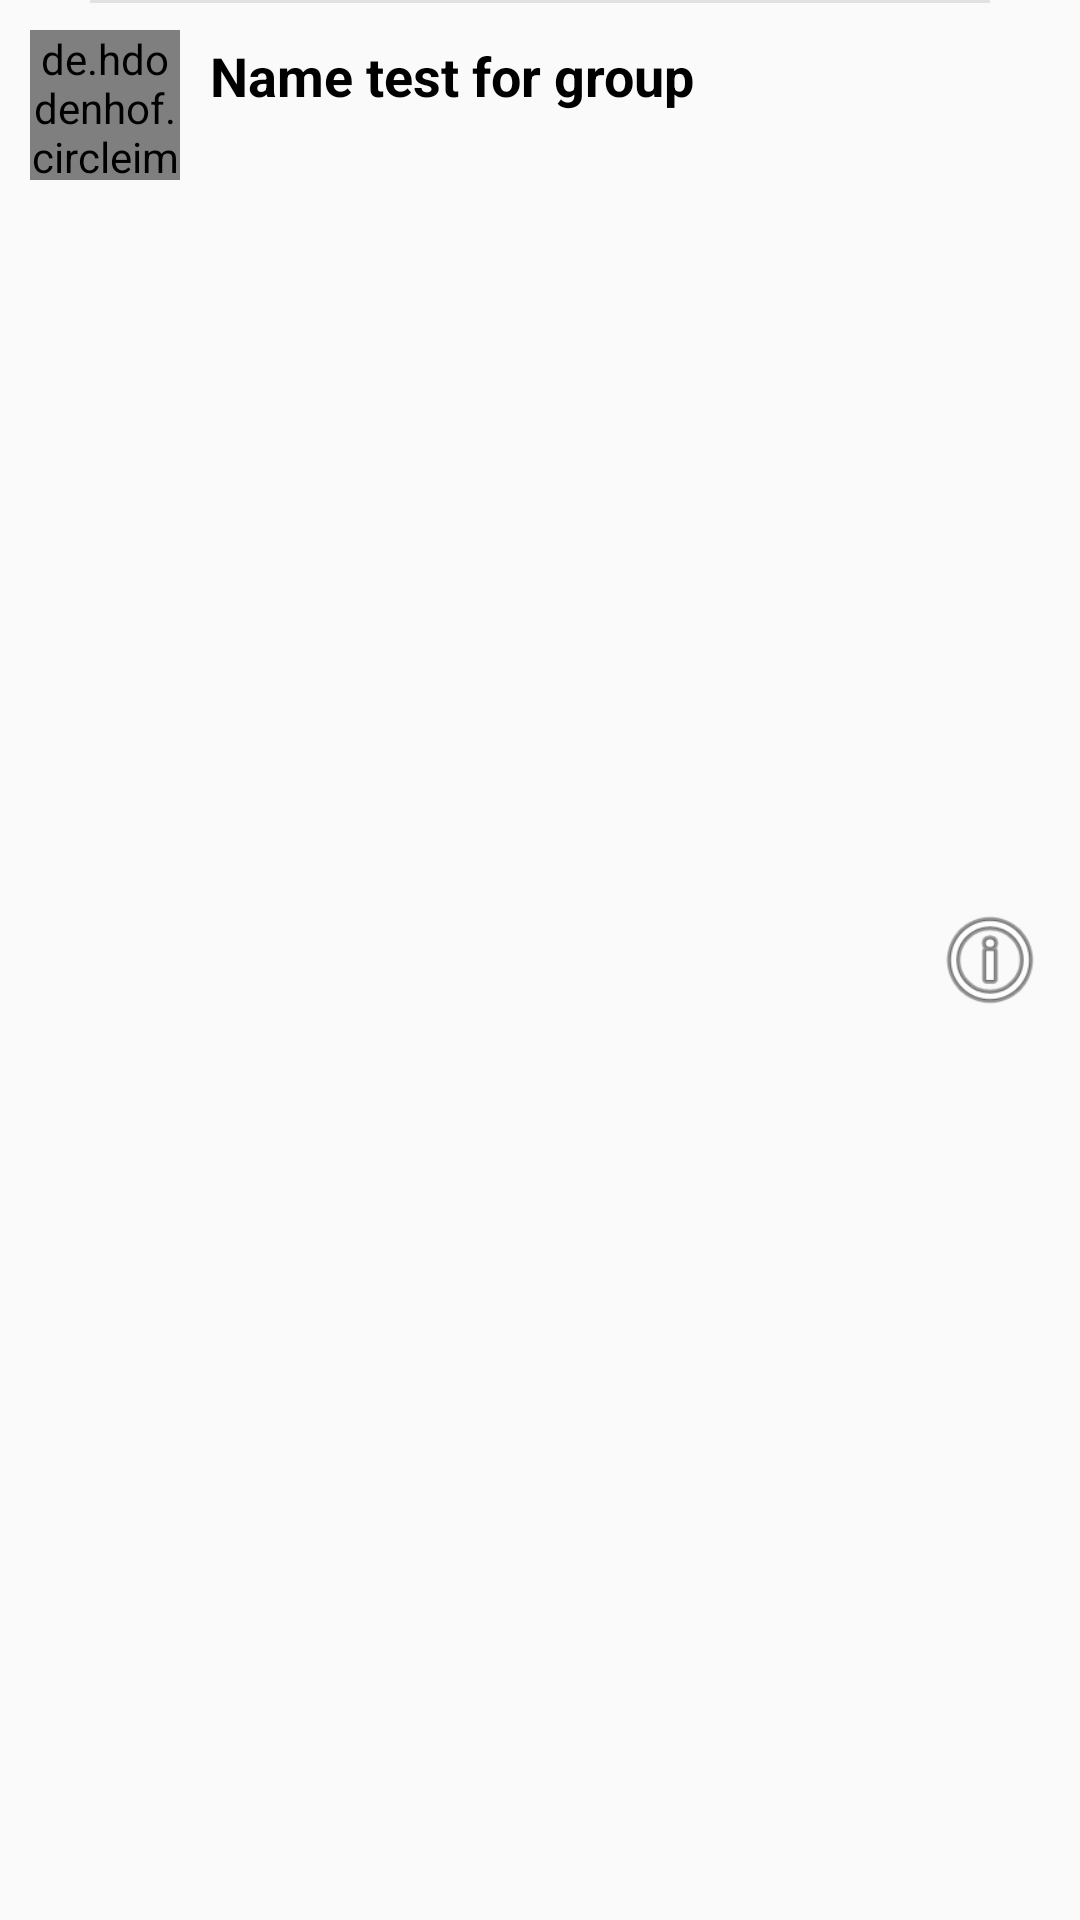

Named icons in this screenshot (1080w x 1920h) and their bounding boxes, BBox(x1, y1, x2, y2):
info details: BBox(947, 917, 1033, 1003)
